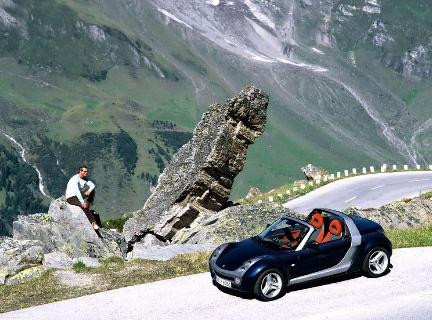smart-roadster: (211, 205, 398, 300)
